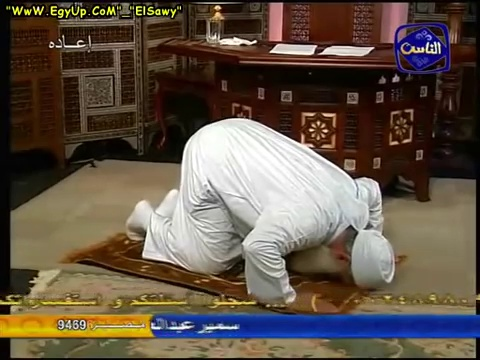sujud: (124, 115, 397, 318)
